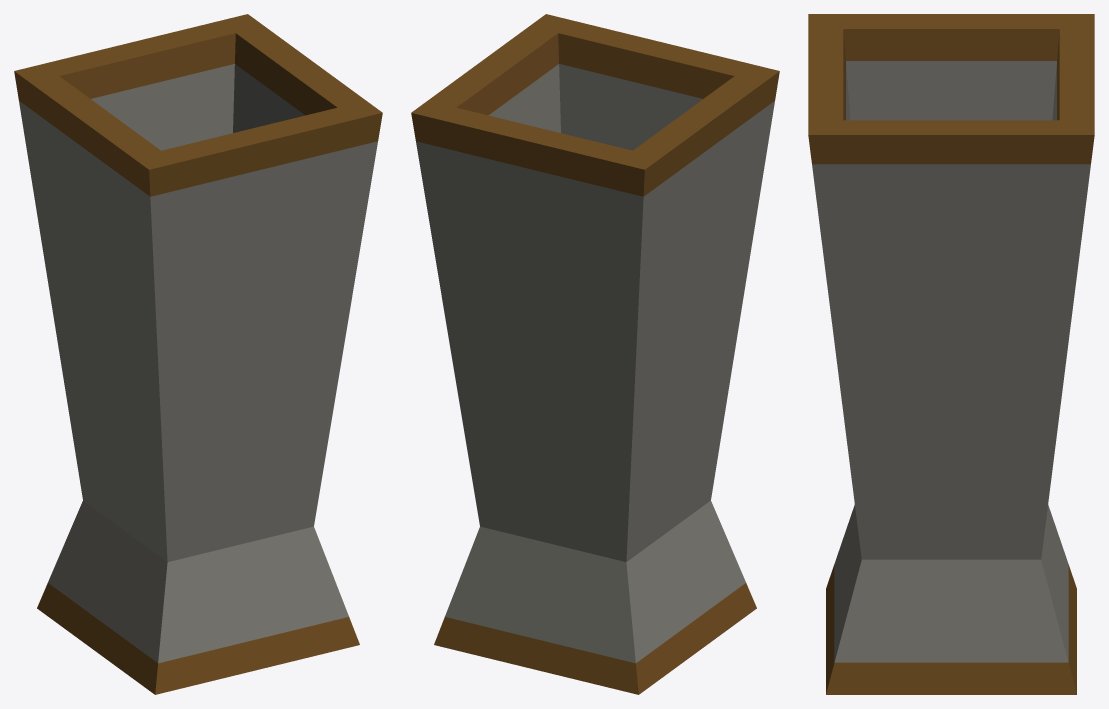
Rendered from brazier.fbx.
3 views of the same model, side by side, from view 1: azimuth 30°, elevation 25°; view 2: azimuth 150°, elevation 25°; view 3: azimuth 270°, elevation 25° (orthographic). The views are drawn at different scales.
Parts seen in each view (by area): view 1: Dwarven Brazier; view 2: Dwarven Brazier; view 3: Dwarven Brazier.
Boxes of the visible parts, <box> form: Dwarven Brazier: <box>14,14,382,694</box>; Dwarven Brazier: <box>411,14,779,694</box>; Dwarven Brazier: <box>808,14,1094,694</box>.
Size of the model in its own units: 31.94 by 69.82 by 31.94.
